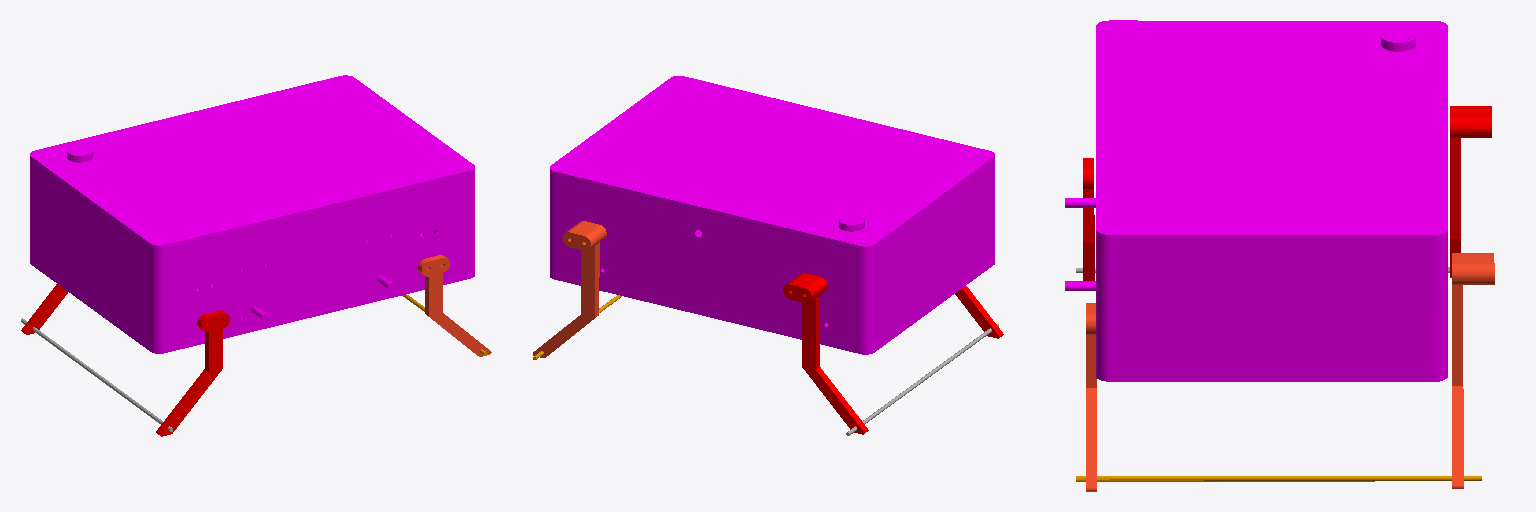
robot.urdf — Assembly_final:
<?xml version="1.0"?>
<robot name="Assembly_final">
    <link name="Amphi_body">
        <inertial>
            <origin xyz="-0.16052442455072136 0.03741442159030612 -0.10010897324556092" rpy="0.0 0.0 0.0" />
            <mass value="7.212459883295273" />
            <inertia ixx="0.06506646769772223" iyy="0.13809045817247934" izz="0.10935344623609505" ixy="0.0002686711305598388" iyz="0.0002123059404934846" ixz="-0.00034021188690566695" />
        </inertial>
        <visual name="Amphi_body_visual">
            <origin xyz="0.0 0.0 0" rpy="1.57 0.0 0.0" />
               <material name="blue">
        <color rgba="1 0 1 1"/>
      </material>
            <geometry>
                <mesh filename="package://amphi_description/urdf/meshes/Amphi_body-v14.stl" scale="0.001 0.001 0.001" />
                </geometry>
        </visual>
        <collision name="Amphi_body_collision">
            <origin xyz="0.0 0.0 0.0" rpy="1.57 0.0 0.0" />
            <geometry>
                <mesh filename="package://amphi_description/urdf/meshes/Amphi_body-v14.stl" scale="0.001 0.001 0.001" />
            </geometry>
        </collision>
    </link>

    <!-- LEFT FRONT SUPPORT START -->
    <link name="left-front-support">
        <inertial>
            <origin xyz="0.004300914423757223 -0.04468754891850409 -0.003998080014032616" rpy="0.0 -0.0 0.0" />
            <mass value="0.1258063436309947" />
            <inertia ixx="0.0001501406958340848" iyy="4.3034898065928e-05" izz="0.00019183422148696038" ixy="6.660019146001358e-05" iyz="-1.0768671639301008e-08" ixz="2.9914083973575298e-09" />
        </inertial>
        <visual name="left-front-support_visual">
            <origin xyz="0.0 0.0 0.0" rpy="0.0 0.0 0.0" />
           <!-- <origin xyz="-0.25 -0.01 0.025" rpy="3.14 0.0 3.14" /> -->
           <material name="blue">
        <color rgba="1 0 0 1"/>
      </material>
            <geometry>
            
                <mesh filename="package://amphi_description/urdf/meshes/left-front-support-v6.stl" scale="0.001 0.001 0.001" />
            </geometry>
        </visual>
        <collision name="left-front-support_collision">
            <origin xyz="-0.0 -0.0 0.0 " rpy="0.0 0.0 0.0" />
            <geometry>
                <mesh filename="package://amphi_description/urdf/meshes/left-front-support-v6.stl" scale="0.001 0.001 0.001" />
            </geometry>
        </collision>
    </link>
    <link name="left-back-support">
        <inertial>
            <origin xyz="-0.01450222929112158 -0.043333072190978615 0.021299928839357118" rpy="0.0 -0.0 0.0" />
            <mass value="0.23800029540907736" />
            <inertia ixx="0.0005606859095804067" iyy="7.287013630525446e-05" izz="0.0006027459478643443" ixy="-0.00012661140186572342" iyz="4.8473192240038824e-05" ixz="7.273497099445289e-06" />
        </inertial>
        <visual name="left-back-support_visual">
            <origin xyz="-0.0 0.0 0.0" rpy="0.0 0.0 0.0"/>
                <material name="blue">
        <color rgba="1 0 0 1"/>
      </material>
            <geometry>
                <mesh filename="package://amphi_description/urdf/meshes/left-back-support-v3.stl" scale="0.001 0.001 0.001" />
            </geometry>
        </visual>
        <collision name="left-back-support_collision">
            <origin xyz="-0.0 0.0 0.0" rpy="0.0 0.0 0.0" />
            <geometry>
                <mesh filename="package://amphi_description/urdf/meshes/left-back-support-v3.stl" scale="0.001 0.001 0.001" />
            </geometry>
        </collision>
    </link>
    <!-- LEFT FRONT SUPPORT END -->
    <!-- RIGHT WHEEL SUPPORT START -->
    <link name="right-front-support">
        <inertial>
            <origin xyz="-0.020300914366342973 -0.04468754891850351 -0.003998080040314953" rpy="0.0 -0.0 0.0" />
            <mass value="0.12580634363099644" />
            <inertia ixx="0.00015014069576797275" iyy="4.303489751521922e-05" izz="0.00019183422100238143" ixy="-6.660019137171447e-05" iyz="-1.076862307658466e-08" ixz="-2.991215034345296e-09" />
        </inertial>
        <visual name="right-front-support_visual">
            <origin xyz="0.0 0.0 0.0" rpy="0.0 0.0 0.0" />
        <material name="grey">
        <color rgba="1 0.34 0.2 1"/>
      </material>
            <geometry>
                <mesh filename="package://amphi_description/urdf/meshes/right-front-support-v6.stl" scale="0.001 0.001 0.001" />
            </geometry>
        </visual>
        <collision name="right-front-support_collision">
             <origin xyz="0.0 0.0 0.0" rpy="0.0 0.0 0.0" />
            <geometry>
                <mesh filename="package://amphi_description/urdf/meshes/right-front-support-v6.stl" scale="0.001 0.001 0.001" />
            </geometry>
        </collision>
    </link>
    <link name="right-back-support">
        <inertial>
            <origin xyz="-0.001497770820030162 0.04333307219097929 -0.021299928900500077" rpy="0.0 -0.0 0.0" />
            <mass value="0.23800029540906284" />
            <inertia ixx="0.0005606859100075988" iyy="7.287013855952957e-05" izz="0.0006027459496901894" ixy="-0.00012661140221863383" iyz="4.847319204596815e-05" ixz="7.273496208417098e-06" />
        </inertial>
        <visual name="right-back-support_visual">
            <origin xyz="0.0 0.0 0.0" rpy="0.0 0.0 0.0" />
            <geometry>
                <mesh filename="package://amphi_description/urdf/meshes/right--back-support-v5.stl" scale="0.001 0.001 0.001" />
            </geometry>
                       <material name="blue">
        <color rgba="1 0.34 0.2 1"/>
      </material>
        </visual>
        <collision name="right-back-support_collision">
            <origin xyz="0.0 0.0 0.0" rpy="0.0 0.0 0.0" />
            <geometry>
                <mesh filename="package://amphi_description/urdf/meshes/right--back-support-v5.stl" scale="0.001 0.001 0.001" />
            </geometry>
        </collision>
    </link>
<!-- RIGHT WHEEL SUPPORT END-->

   <!-- WHEEL START -->
    <link name="left-wheel">
        <inertial>
            <origin xyz="9.071930888297047e-05 -0.00014991238285844228 0.11823415122271601" rpy="0.0 0.0 0.0" />
            <mass value="5.030310348521676" />
            <inertia ixx="0.04100577658518084" iyy="0.04099177637825906" izz="0.01414452358314806" ixy="1.3387566296825714e-05" iyz="-2.887732385952568e-05" ixz="-4.805083875256088e-05" />
        </inertial>
        <visual name="left-wheel_visual">
            <origin xyz="0.0 0.0 0.0" rpy="0.0 0.0 0.0" />
            <geometry>
                <mesh filename="package://amphi_description/urdf/meshes/left-wheel-v4.stl" scale="0.001 0.001 0.001" />
            </geometry>
        </visual>
        <collision name="left-wheel_collision">
            <origin xyz="0.0 0.0 0.0" rpy="0.0 0.0 0.0" />
            <geometry>
                <mesh filename="package://amphi_description/urdf/meshes/left-wheel-v4.stl" scale="0.001 0.001 0.001" />
            </geometry>
        </collision>
    </link>
    <link name="right-wheel">
        <inertial>
            <origin xyz="8.981737534367596e-05 0.00014839768795274792 0.11694916102186585" rpy="0.0 0.0 0.0 " />
            <mass value="5.029486679133445" />
            <inertia ixx="0.04099603333746145" iyy="0.04098224129578613" izz="0.014133771445009054" ixy="-1.3196274334909934e-05" iyz="2.858954654001921e-05" ixz="-4.756139133844742e-05" />
        </inertial>
        <visual name="right-wheel_visual">
            <origin xyz="0.0 0.0 0.0" rpy="0.0 0.0 0.0" />
            <geometry>
                <mesh filename="package://amphi_description/urdf/meshes/right-wheel-v5.stl" scale="0.001 0.001 0.001" />
            </geometry>
        </visual>
        <collision name="right-wheel_collision">
            <origin xyz="0.0 0.0 0.0" rpy="0.0 0.0 0.0" />
            <geometry>
                <mesh filename="package://amphi_description/urdf/meshes/right-wheel-v5.stl" scale="0.001 0.001 0.001" />
            </geometry>
        </collision>
    </link>
    <!-- WHEEL END -->
<!-- SHAFT START -->
<link name="shaft-left">
        <inertial>
            <origin xyz="-3.8907946731114865e-09 -0.14400000000000013 2.684804094599258e-09" rpy="0.0 -0.0 0.0" />
            <mass value="0.02841005068494322" />
            <inertia ixx="0.00019639868038501317" iyy="5.682010136964094e-08" izz="0.0001963986803850122" ixy="2.168404344971009e-19" iyz="2.710505431213761e-20" ixz="-1.0842021724855107e-19" />
        </inertial>
        <visual name="shaft-left_visual">
            <origin xyz="-0.0 -0.0 0.0" rpy="0.0 0.0 0.0" />
            <geometry>
                <mesh filename="package://amphi_description/urdf/meshes/shaft-v4.stl" scale="0.001 0.001 0.001" />
            </geometry>
        </visual>
        <collision name="shaft-left_collision">
            <origin xyz="-0.0 0.0 0.0 " rpy="0.0 0.0 0.0" />
            <geometry>
                <mesh filename="package://amphi_description/urdf/meshes/shaft-v4.stl" scale="0.001 0.001 0.001" />
            </geometry>
        </collision>
</link>


<link name="shaft-right">
        <inertial>
            <origin xyz="3.890793704997009e-09 -0.14399999999999946 2.684805586739003e-09" rpy="0.0 -0.0 0.0" />
            <mass value="0.02841005068494322" />
            <inertia ixx="0.00019639868038501306" iyy="5.682010136989844e-08" izz="0.0001963986803850129" ixy="4.867429162901075e-35" iyz="-8.39694617356321e-52" ixz="-3.3881317889973703e-21" />
        </inertial>
        <visual name="shaft-right_visual">
            <origin xyz="0.0 0.0 0.0" rpy="0.0 0.0 0.0" />
            <geometry>
                <mesh filename="package://amphi_description/urdf/meshes/shaft-v4.stl" scale="0.001 0.001 0.001" />
            </geometry>
        </visual>
        <collision name="shaft-right_collision">
            <origin xyz="0.0 0.0 0.0" rpy="0.0 0.0 0.0" />
            <geometry>
                <mesh filename="package://amphi_description/urdf/meshes/shaft-v4.stl" scale="0.001 0.001 0.001" />
            </geometry>
        </collision>
</link>
    <!-- SHAFT END -->

 <joint name="left-front-support-joint" type="fixed" >
<origin xyz="-0.23 -0.009 -0.016" rpy="3.14 0.0 3.14" />
<parent link="Amphi_body" />
<child link="left-front-support" />
</joint>

  


<joint name="shaft-left-joint" type="fixed" >
<origin xyz="0.1 0.01 0.07" rpy="0.0 0.0 3.14"  />
<parent link="left-front-support" />
<child link="shaft-left"/>
</joint>


<joint name="right-front-support-joint" type="fixed" >
<origin xyz="-0.040 -0.029 -0.015" rpy="0.0 3.14 0.0" />
<parent link="Amphi_body" />
<child link="right-front-support" />
</joint>  


<joint name="shaft-right-joint" type="fixed" >
<origin xyz="-0.059 0.03 0.0715" rpy="0.0 0.0 3.14"  />
<parent link="right-front-support" />
<child link="shaft-right"/>
</joint>

<joint name="shaft-left-back-joint" type="fixed" >
<origin xyz="0.06 -0.23 -0.11" rpy="0.0 0.0 0.0"  />
<parent link="shaft-left" />
<child link="left-back-support"/>
</joint>


<joint name="shaft-right-back-joint" type="fixed" >
<origin xyz="-0.1 -0.21 -0.11" rpy="0.0 0.0 0.0"  />
<parent link="shaft-right" />
<child link="right-back-support"/>
</joint>

<joint name="right-wheel-joint"  type="continuous">
<origin xyz="0.0 0.013 0.0" rpy="1.57 0.0 0.0"  />
<parent link="shaft-right" />
<child link="right-wheel"/>
   <axis xyz="0 0  1"/>
</joint>

<joint name="left-wheel-joint" type="continuous" >
<origin xyz="0.0 0.013 0.0" rpy="1.57 0.0 0.0"  />
<parent link="shaft-left" />

<child link="left-wheel"/>
   <axis xyz="0 0  1"/>
</joint>


</robot>

--- What the picture shows (computed from the rendered views, not written in the file) ---
3 views of the same robot in one strip: view 1: azimuth 30°, elevation 25°; view 2: azimuth 150°, elevation 25°; view 3: azimuth 270°, elevation 25° (orthographic).
Model Assembly_final with 9 links and 8 joints (2 continuous, 6 fixed), rooted at Amphi_body, posed every joint at zero.
Visible links, largest first — view 1: Amphi_body, left-front-support, right-front-support, left-back-support, shaft-left; view 2: Amphi_body, left-back-support, right-back-support, left-front-support, shaft-left; view 3: Amphi_body, right-back-support, left-back-support, shaft-right, right-front-support, left-front-support.
Boxes of the visible links, x1=… form: Amphi_body: x1=30, y1=75, x2=474, y2=353; left-front-support: x1=156, y1=310, x2=229, y2=436; right-front-support: x1=418, y1=255, x2=491, y2=356; left-back-support: x1=21, y1=284, x2=67, y2=334; shaft-left: x1=21, y1=318, x2=172, y2=431; Amphi_body: x1=550, y1=76, x2=994, y2=354; left-back-support: x1=783, y1=273, x2=868, y2=434; right-back-support: x1=533, y1=221, x2=606, y2=357; left-front-support: x1=955, y1=286, x2=1003, y2=338; shaft-left: x1=846, y1=324, x2=998, y2=435; Amphi_body: x1=1065, y1=20, x2=1447, y2=381; right-back-support: x1=1452, y1=253, x2=1494, y2=488; left-back-support: x1=1450, y1=106, x2=1491, y2=277; shaft-right: x1=1076, y1=476, x2=1481, y2=481; right-front-support: x1=1086, y1=303, x2=1096, y2=491; left-front-support: x1=1083, y1=158, x2=1094, y2=280.
Size in the robot's own frame: 0.3699 by 0.3044 by 0.205 metres.
7 mesh visuals loaded from 8 distinct referenced files (6 binary STL); not drawn: 2 (reference not matched to a file when rendering).